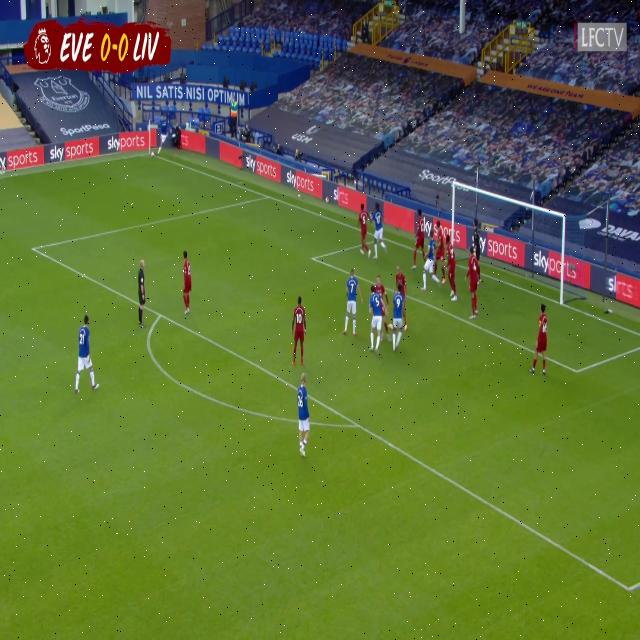Ball: (150, 149, 155, 159)
GoalKeeper: (473, 216, 482, 279)
TEAM 1: (534, 305, 550, 379), (466, 246, 482, 318), (291, 297, 306, 367), (446, 234, 458, 305), (183, 250, 195, 316), (357, 204, 369, 256), (436, 220, 446, 282), (415, 206, 425, 266), (395, 264, 405, 294), (374, 274, 389, 292)
TEAM 2: (72, 316, 99, 398), (368, 284, 388, 354), (345, 268, 363, 336), (297, 374, 312, 454), (422, 226, 437, 290), (158, 100, 171, 172), (392, 289, 406, 354)
